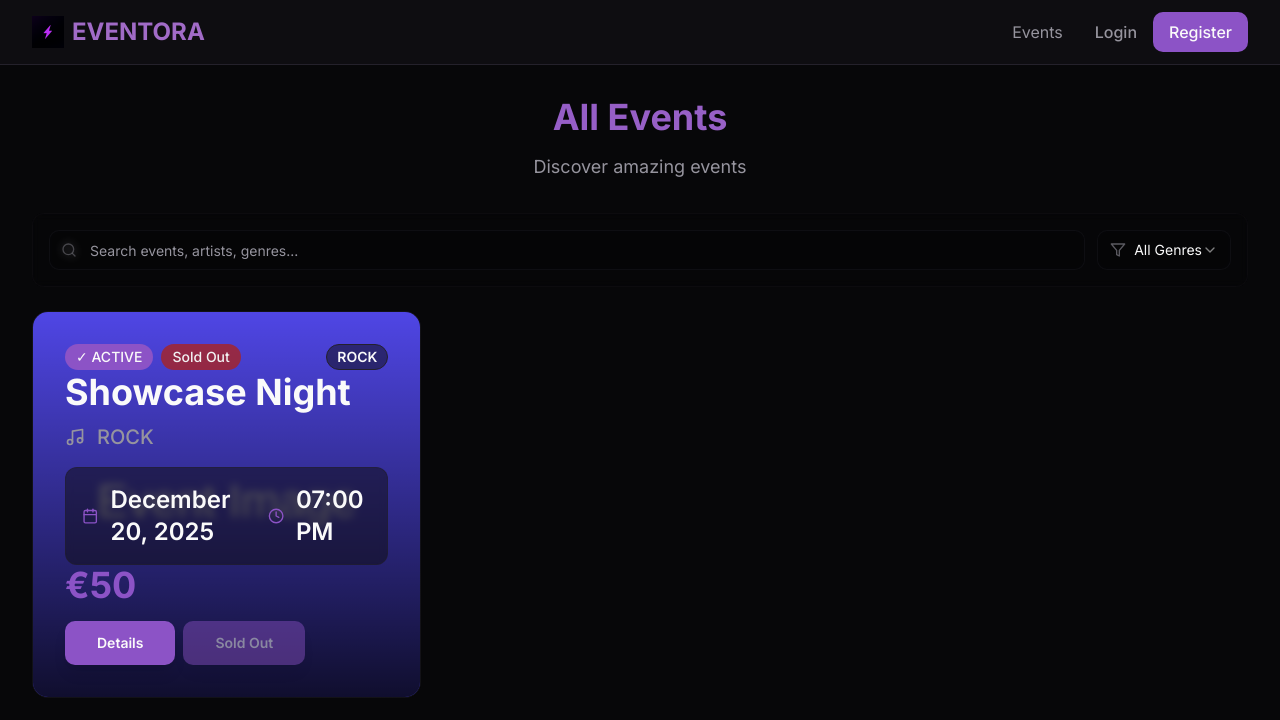
Test: Event details essentials › sold out event › surfaces sold out state in details
Click the element with test id "event-card" at (227, 505), box x1=32 y1=311 x2=421 y2=698
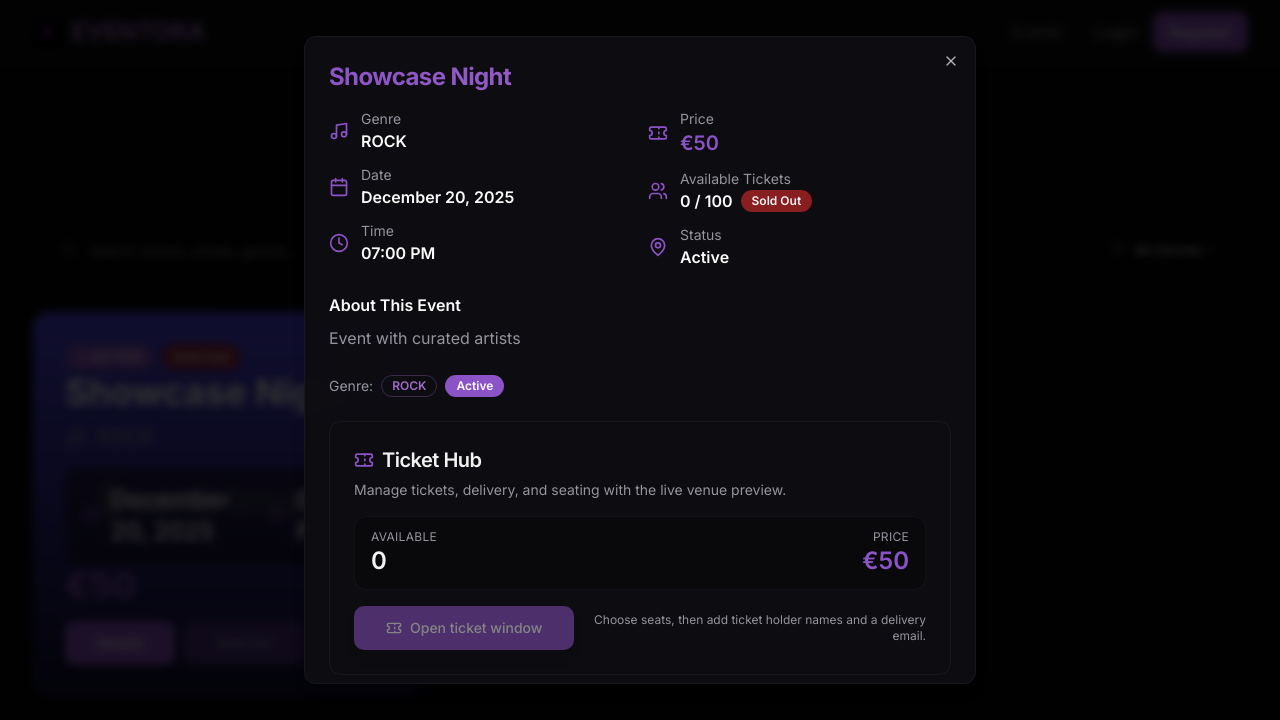
Check: the element with test id "event-available-tickets" shows "Sold Out", box x1=680 y1=189 x2=812 y2=213
Check: the element with test id "event-available-tickets" shows "0", box x1=680 y1=189 x2=812 y2=213
